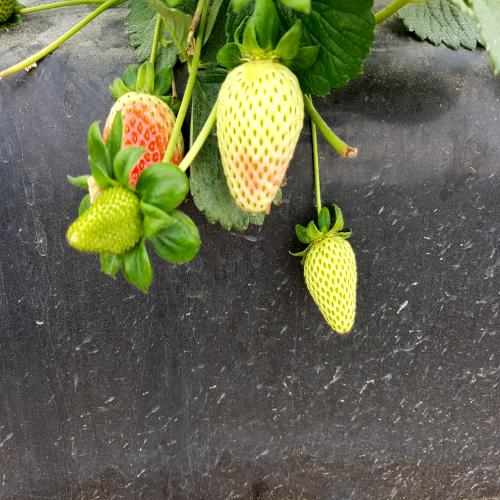partially-ripe: (221, 55, 302, 210), (104, 91, 186, 207)
unripe: (300, 234, 367, 335)
